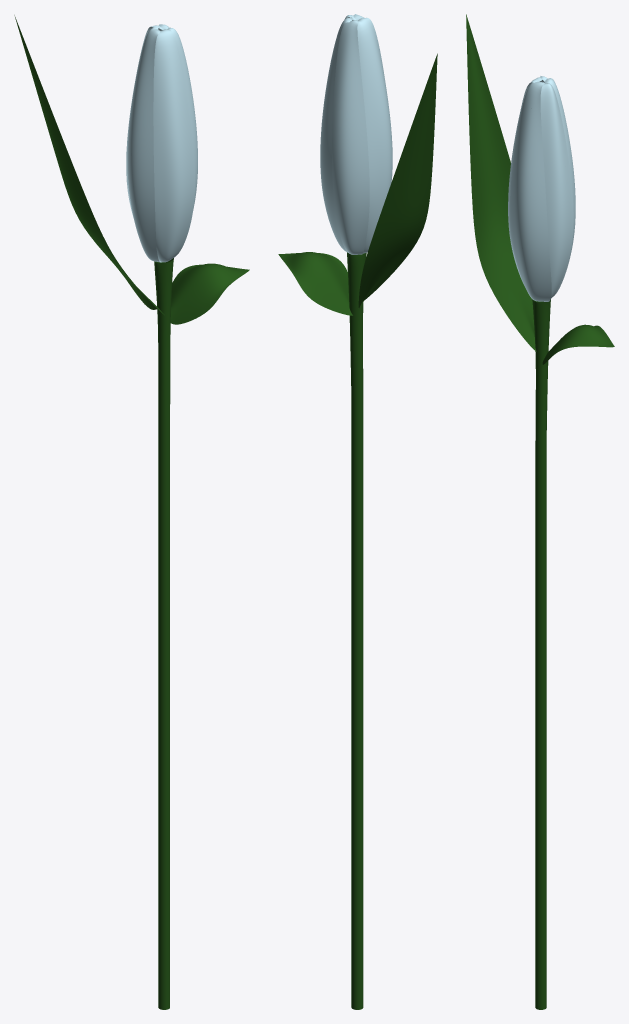
Rendered from Lirio.fbx.
3 renders of one model, left to right at view 1: azimuth 30°, elevation 25°; view 2: azimuth 150°, elevation 25°; view 3: azimuth 330°, elevation 25°, orthographic. The views are drawn at different scales.
Parts seen in each view (by area): view 1: Stem, Petal.004, Petal.001, Bigger Leaf, Leaf, Petal.005; view 2: Stem, Bigger Leaf, Petal.002, Petal.001, Leaf, Petal.003; view 3: Bigger Leaf, Stem, Petal.004, Petal.005, Leaf, Petal.003, Petal.001.
Part boxes in pixels (box(x1,y1,x2,y2)): Stem: box(154, 258, 173, 1009); Petal.004: box(153, 29, 194, 262); Petal.001: box(127, 27, 161, 262); Bigger Leaf: box(14, 15, 164, 315); Leaf: box(170, 263, 249, 324); Petal.005: box(167, 27, 197, 210); Stem: box(347, 252, 366, 1009); Bigger Leaf: box(358, 53, 437, 308); Petal.002: box(332, 20, 369, 254); Petal.001: box(357, 17, 392, 253); Leaf: box(278, 252, 352, 315); Petal.003: box(320, 17, 353, 253); Bigger Leaf: box(466, 14, 536, 351); Stem: box(532, 299, 550, 1009); Petal.004: box(509, 81, 551, 301); Petal.005: box(540, 83, 573, 298); Leaf: box(542, 324, 614, 364); Petal.003: box(544, 78, 575, 296); Petal.001: box(508, 77, 543, 283).
Size of the model in its own units: 299 by 1450 by 144.
Materials: 8 (8 with a texture image).
